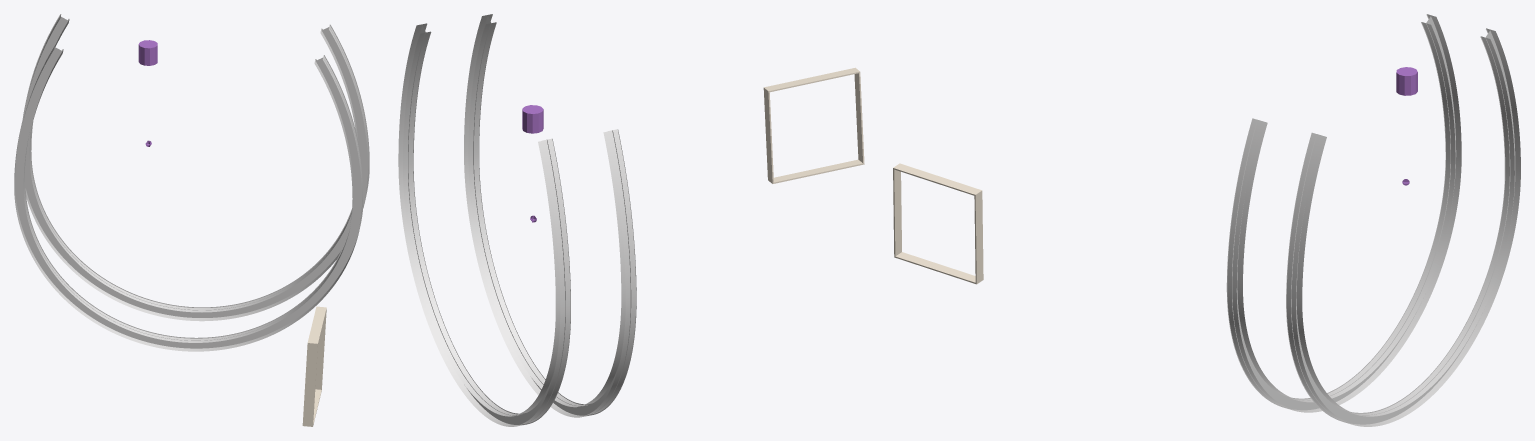
Rendered from tile_468.glb.
3 views of the same model, side by side, from view 1: azimuth 30°, elevation 25°; view 2: azimuth 150°, elevation 25°; view 3: azimuth 270°, elevation 25° (orthographic). The views are drawn at different scales.
Size of the model in its own units: 5.06 by 5.09 by 8.65.
